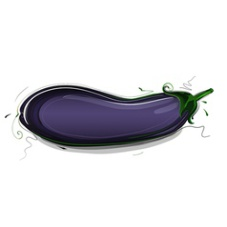eggplant: (15, 85, 197, 149)
